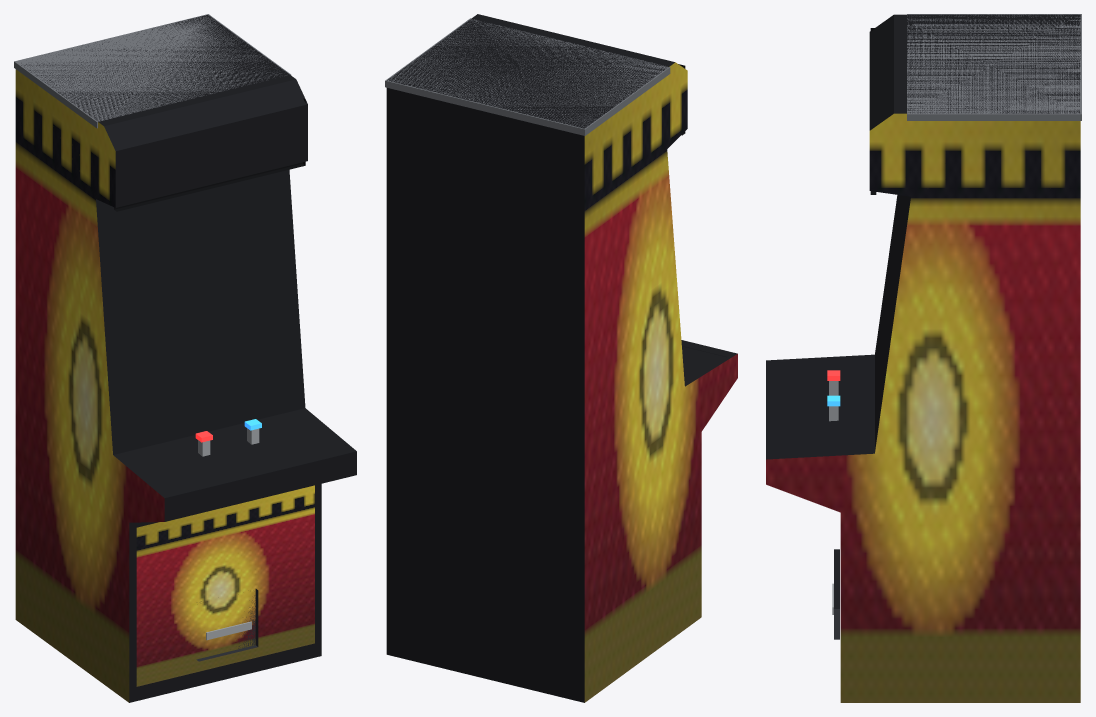
File: _one.glb
3 renders of one model, left to right at view 1: azimuth 30°, elevation 25°; view 2: azimuth 150°, elevation 25°; view 3: azimuth 270°, elevation 25°, orthographic. The views are drawn at different scales.
Visible parts, largest first — view 1: root; view 2: root; view 3: root.
Part boxes in pixels (x1,y1,x2,y2): root: (14,14,356,702); root: (385,14,737,702); root: (766,14,1081,702).
Size of the model in its own units: 0.6779 by 1.86 by 0.9028.
12 materials, 2 textured.
